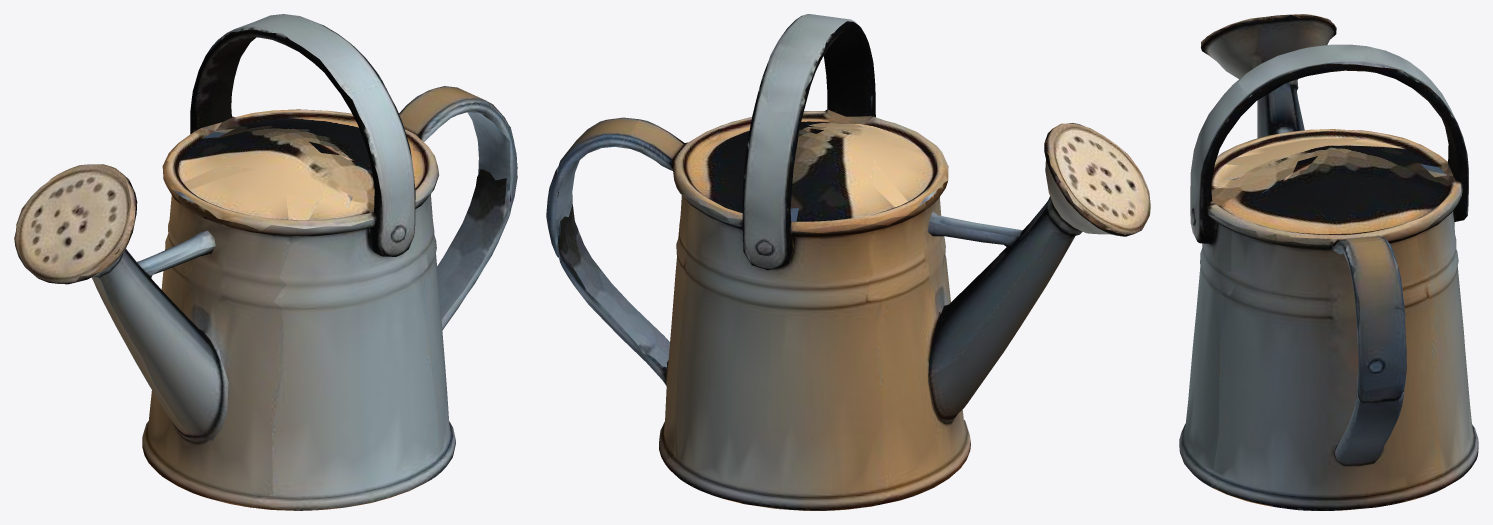
File: can.glb
The picture shows the model from 3 angles, left to right: view 1: azimuth 30°, elevation 25°; view 2: azimuth 150°, elevation 25°; view 3: azimuth 270°, elevation 25°; orthographic projection. The views are drawn at different scales.
Parts seen in each view (by area): view 1: item_can; view 2: item_can; view 3: item_can.
Boxes of the visible parts, <box> form: item_can: <box>14,14,517,510</box>; item_can: <box>546,14,1150,510</box>; item_can: <box>1179,14,1478,510</box>.
Bounding box in the file's own units: 1 × 0.7403 × 0.5055.
Materials: 1 (1 with a texture image).
